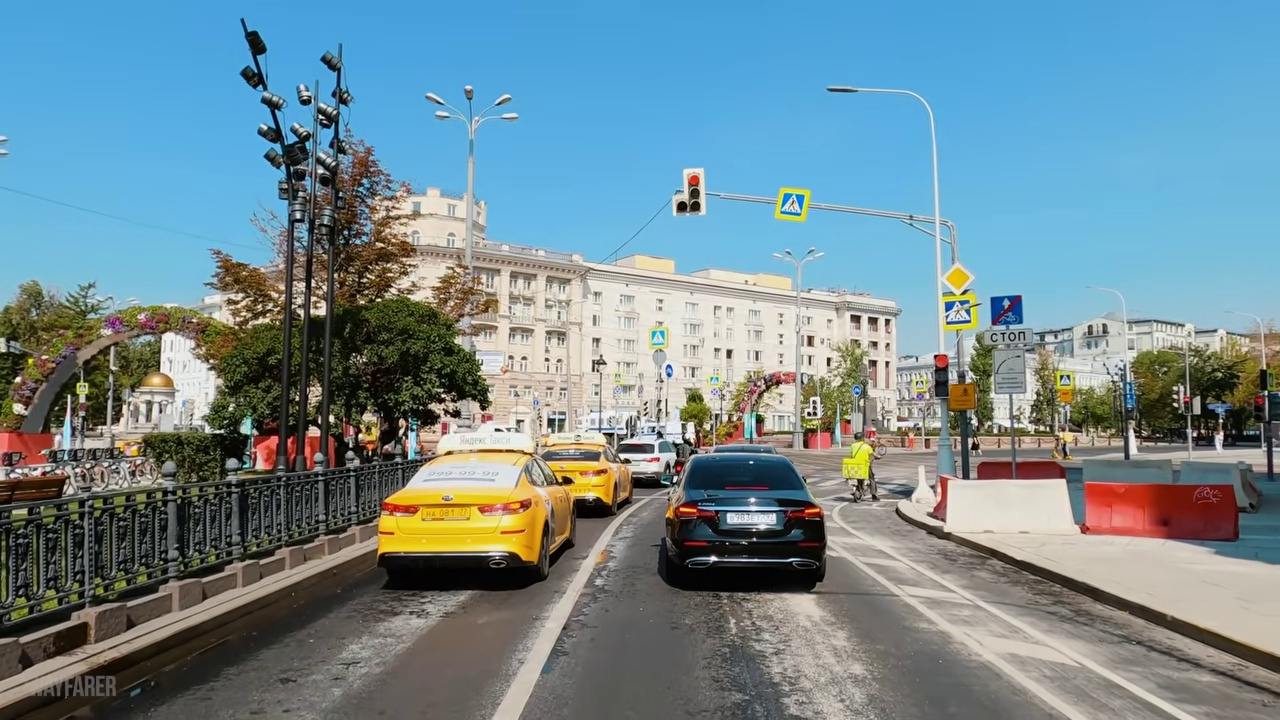acesa: (943, 266, 972, 294)
apagada: (421, 75, 519, 137), (826, 79, 857, 102)
